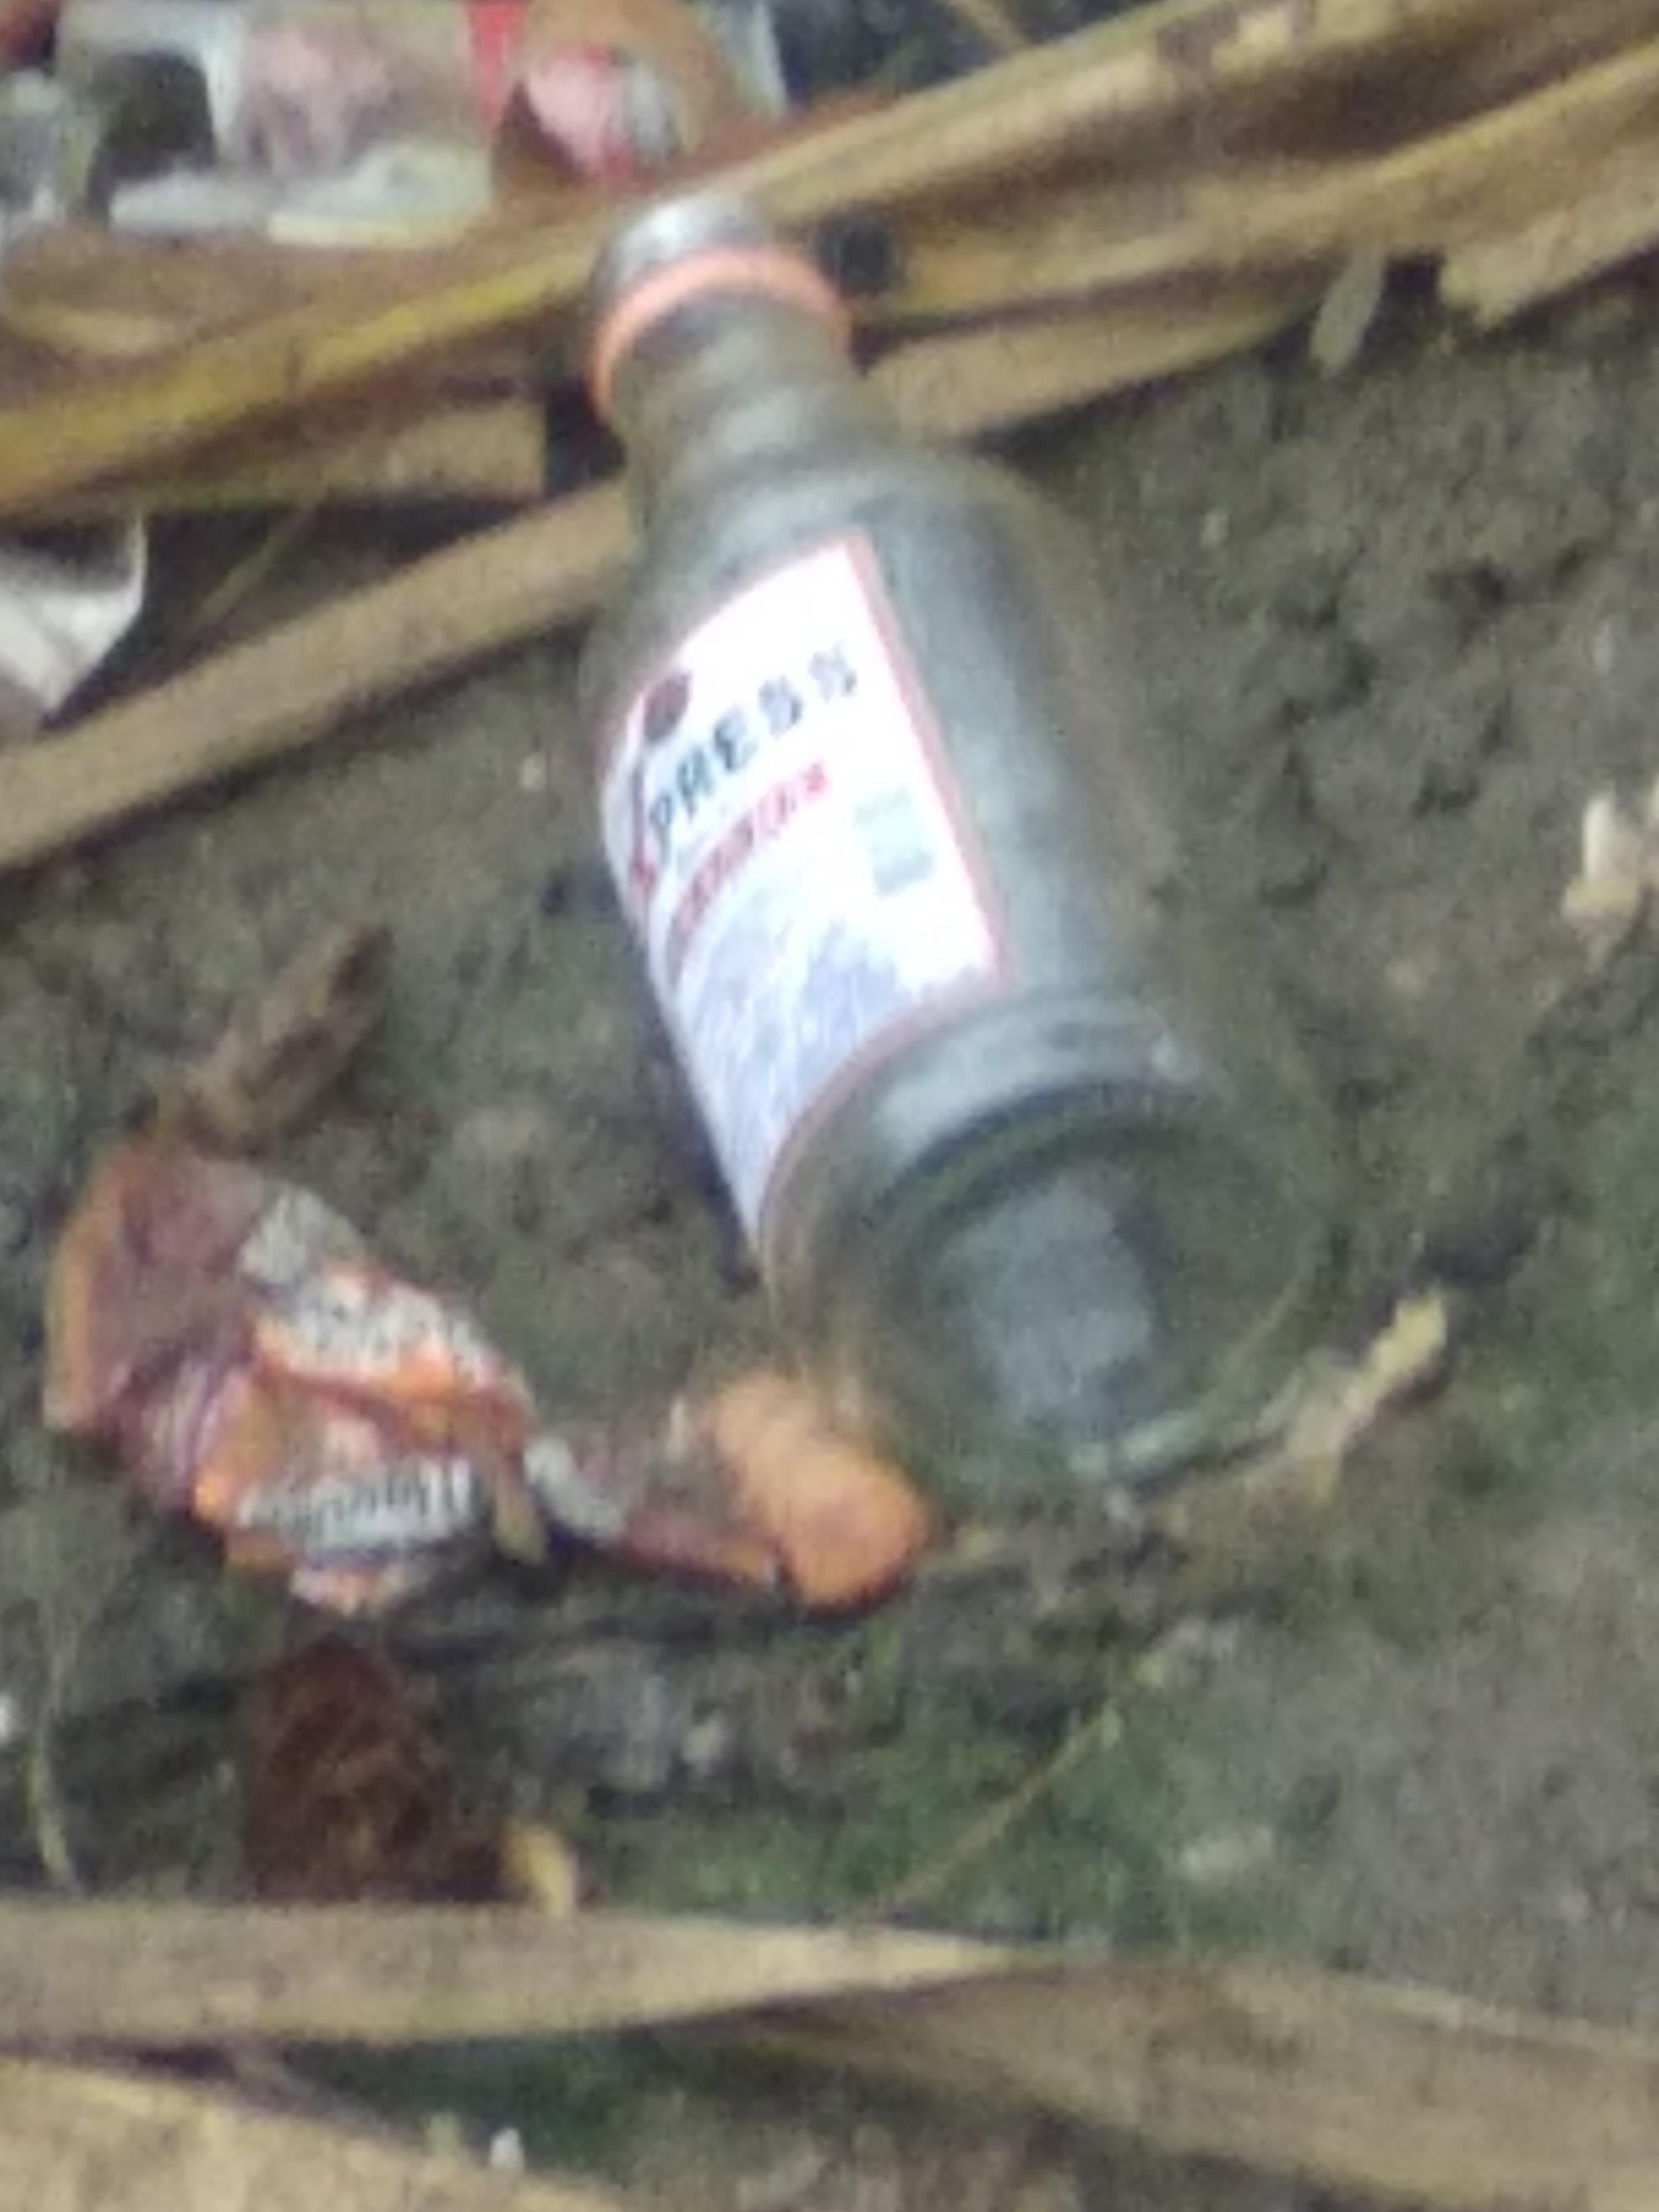trash: (558, 181, 1359, 1512)
